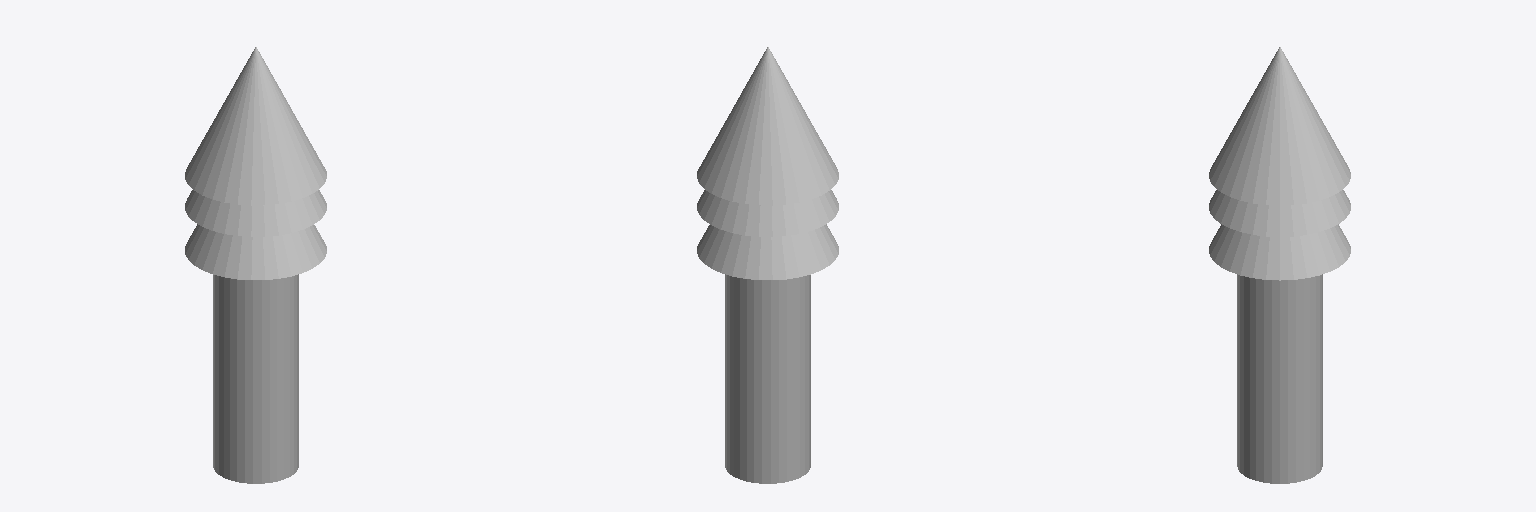
Rendered from worldDesign.obj.
3 renders of one model, left to right at view 1: azimuth 30°, elevation 25°; view 2: azimuth 150°, elevation 25°; view 3: azimuth 270°, elevation 25°, orthographic.
Visible parts, largest first — view 1: 木.004_円柱.002; view 2: 木.004_円柱.002; view 3: 木.004_円柱.002.
Boxes of the visible parts, x1,y1,x2,y2 form: 木.004_円柱.002: [185, 47, 326, 483]; 木.004_円柱.002: [697, 47, 838, 483]; 木.004_円柱.002: [1209, 47, 1350, 483].
Bounding box in the file's own units: 10 × 32.43 × 10.